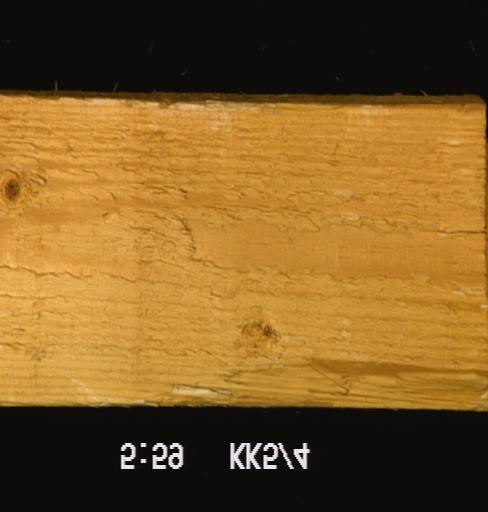small_knot: (231, 314, 290, 361)
sound_knot: (0, 156, 49, 215)
split: (414, 218, 486, 240)
wave: (149, 355, 487, 409)
